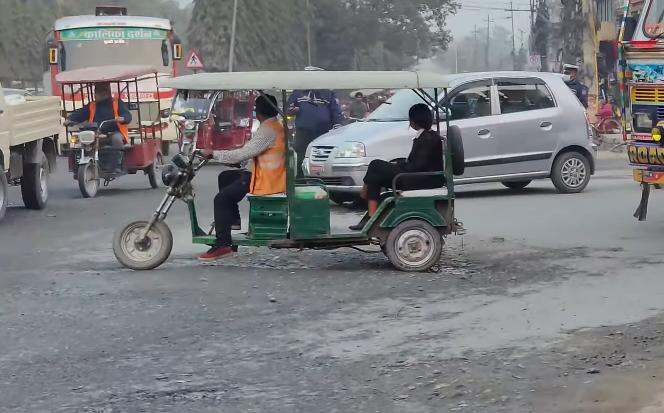e-rickshaw: (112, 67, 469, 282), (52, 57, 176, 197), (168, 69, 258, 156)
